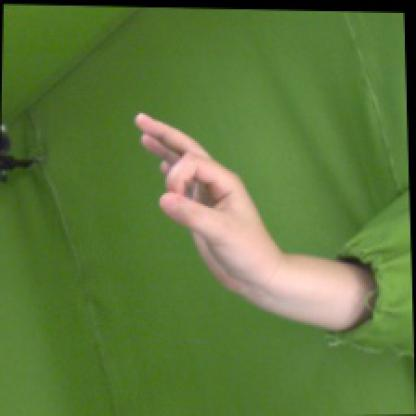Hand: (135, 112, 278, 294)
